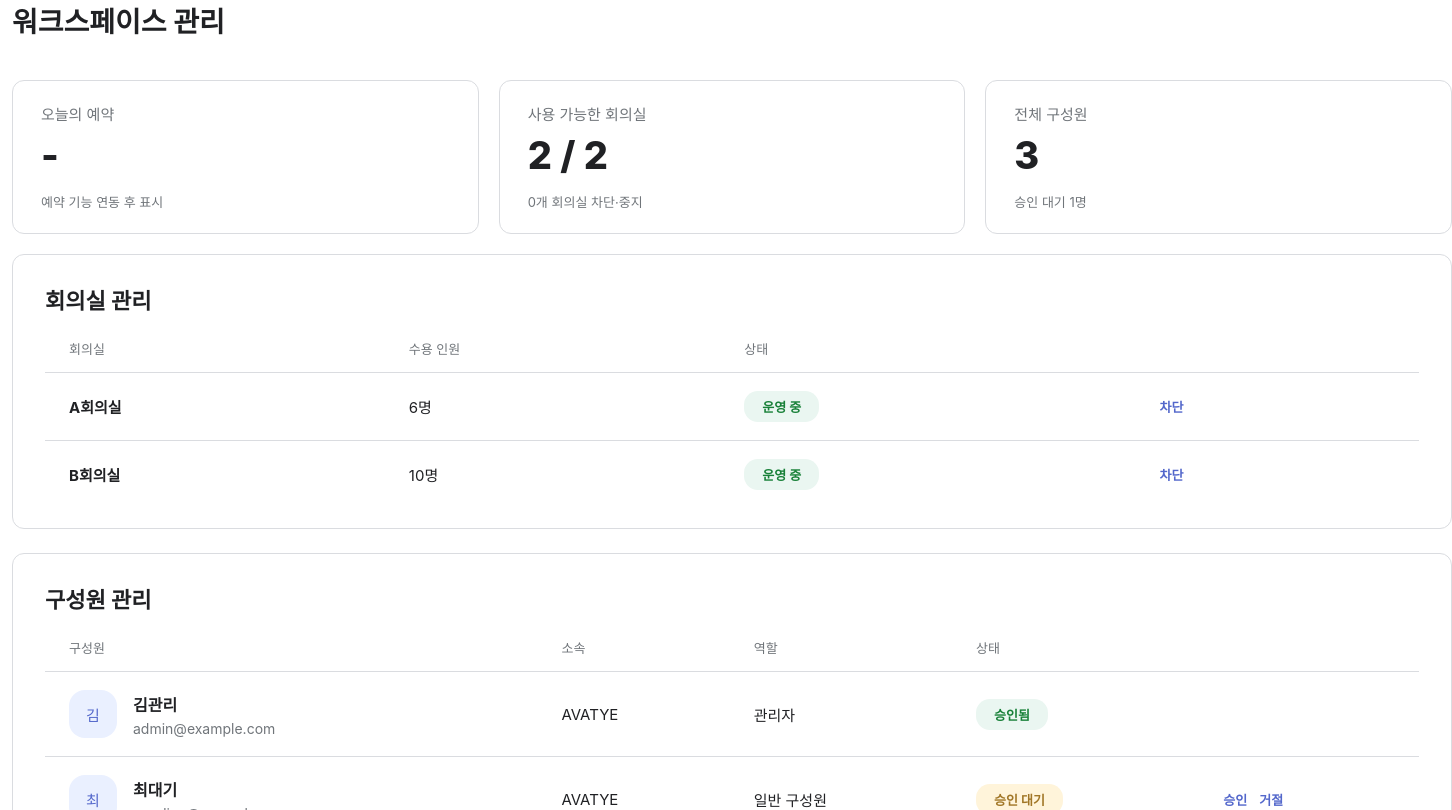
Test case: AdminPage › 가입을 거절하면 목록에서 사라진다
The width and height of the screenshot is (1452, 810).
Check: the text "최대기" is shown, box [133, 780, 177, 800]
Click the button "거절" at (1271, 799), box [1259, 790, 1283, 808]
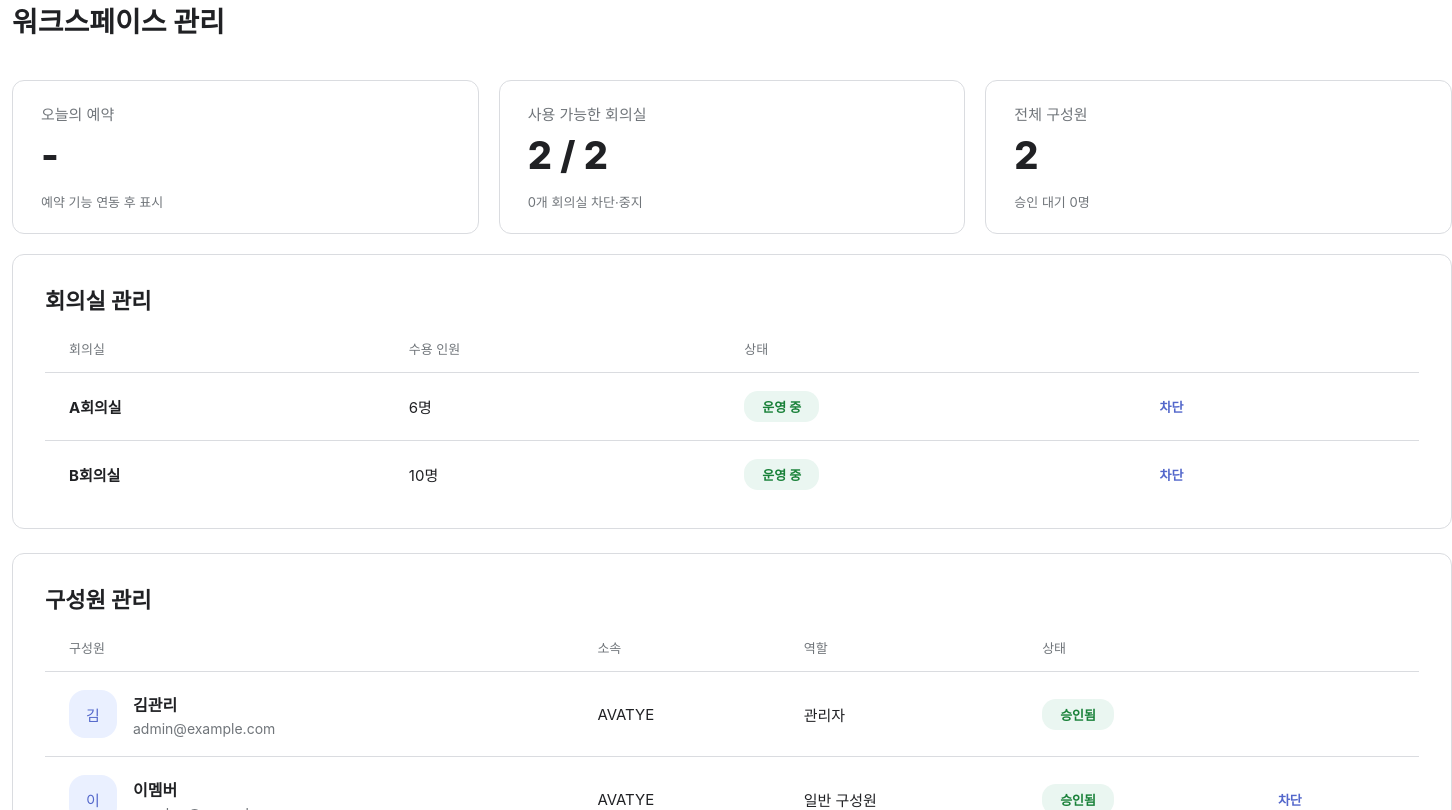
Check: the text "승인 대기 0명" is shown, box [1014, 194, 1090, 210]
Check: the text "최대기" is gone
